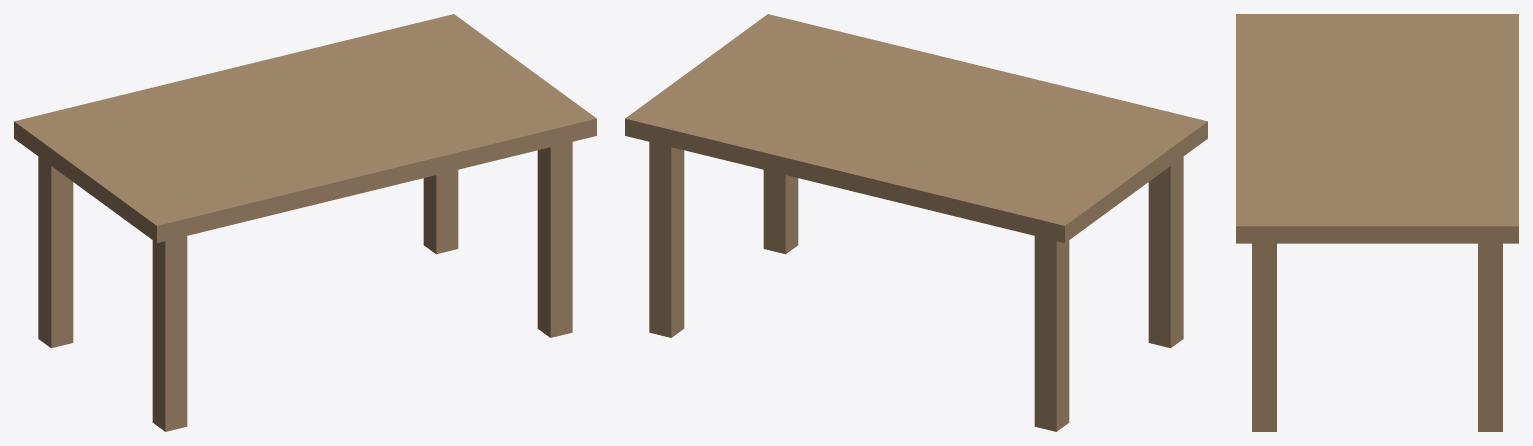
The model's file is table.glb.
The picture shows the model from 3 angles, left to right: view 1: azimuth 30°, elevation 25°; view 2: azimuth 150°, elevation 25°; view 3: azimuth 270°, elevation 25°; orthographic projection.
Parts seen in each view (by area): view 1: Cube, Cube.001, Cube.003, Cube.002, Cube.004; view 2: Cube, Cube.002, Cube.004, Cube.001, Cube.003; view 3: Cube, Cube.003, Cube.004.
Boxes of the visible parts, left/top/right/bottom form: Cube: left=14, top=14, right=596, bottom=242; Cube.001: left=152, top=236, right=187, bottom=431; Cube.003: left=537, top=142, right=572, bottom=337; Cube.002: left=38, top=156, right=73, bottom=348; Cube.004: left=423, top=170, right=458, bottom=254; Cube: left=625, top=14, right=1207, bottom=242; Cube.002: left=1034, top=236, right=1069, bottom=431; Cube.004: left=649, top=142, right=684, bottom=337; Cube.001: left=1148, top=156, right=1183, bottom=348; Cube.003: left=763, top=170, right=798, bottom=254; Cube: left=1236, top=14, right=1518, bottom=243; Cube.003: left=1252, top=243, right=1276, bottom=431; Cube.004: left=1478, top=243, right=1502, bottom=431.
Size of the model in its own units: 1.6 by 0.75 by 0.9.
